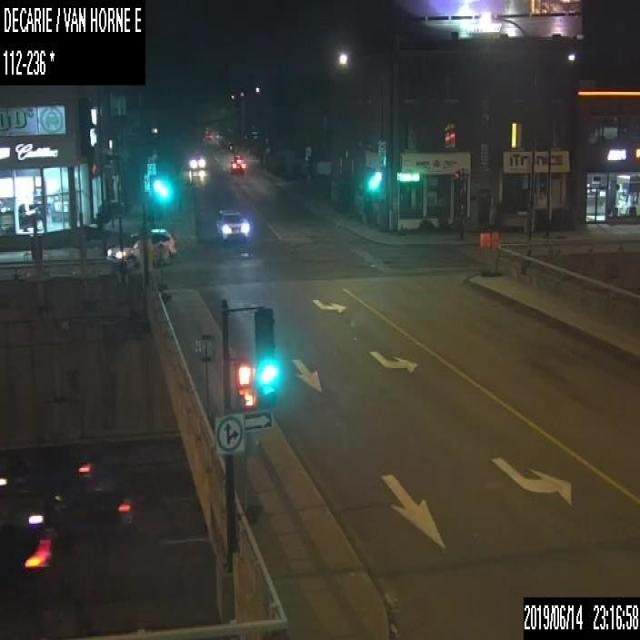construction: (237, 427, 258, 520), (196, 334, 214, 424), (490, 231, 501, 277), (478, 230, 489, 274)
vehicle: (0, 465, 133, 560), (106, 227, 174, 268), (217, 208, 250, 243), (187, 149, 205, 168), (229, 155, 246, 172)
